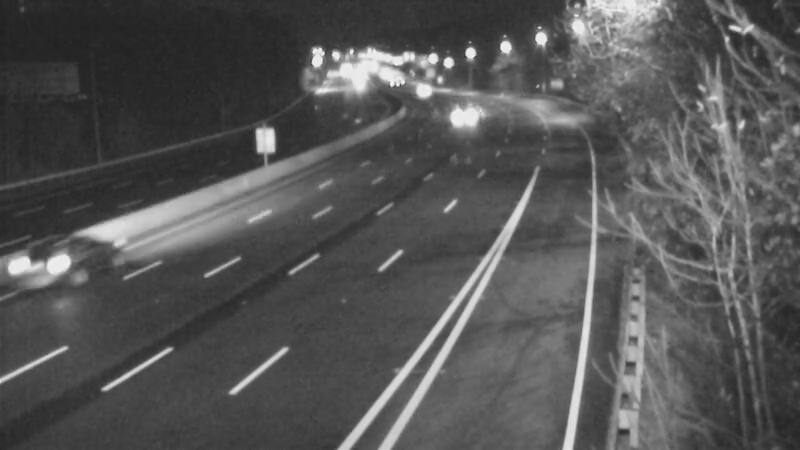vehicle: (28, 214, 108, 294), (393, 63, 443, 113), (435, 91, 485, 141)
